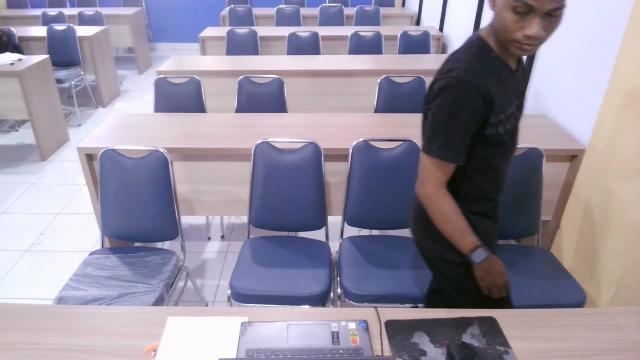Empty_Desk: (219, 107, 394, 360)
